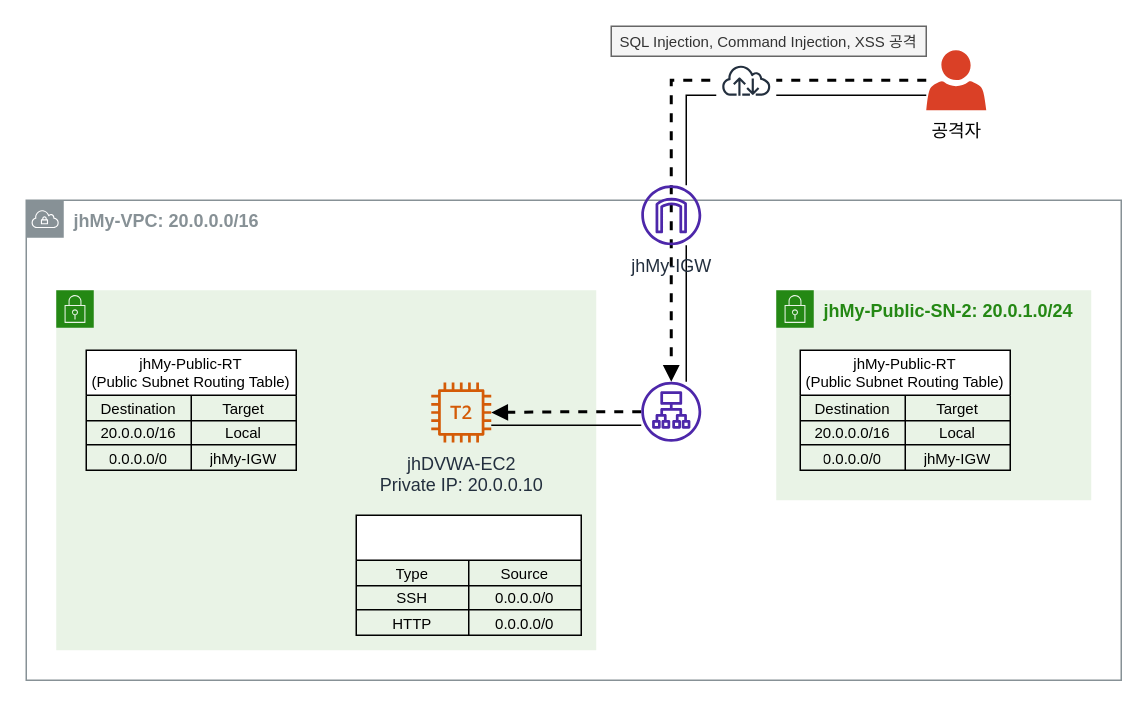
Image size: 1148x707. Some labels were removed from this diagram. Here are the shapes that lost their labels. From the top down, the box of each, then its label:
(715, 49, 776, 110): Internet
(640, 381, 700, 441): jhMy-ALB
(55, 289, 596, 650): jhMy-Public-SN: 20.0.0.0/24
(355, 514, 581, 635): jhWeb-SG (Security Group, Inbound Rule)
